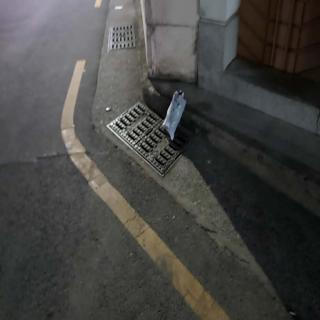Garbage: (161, 83, 188, 145)
